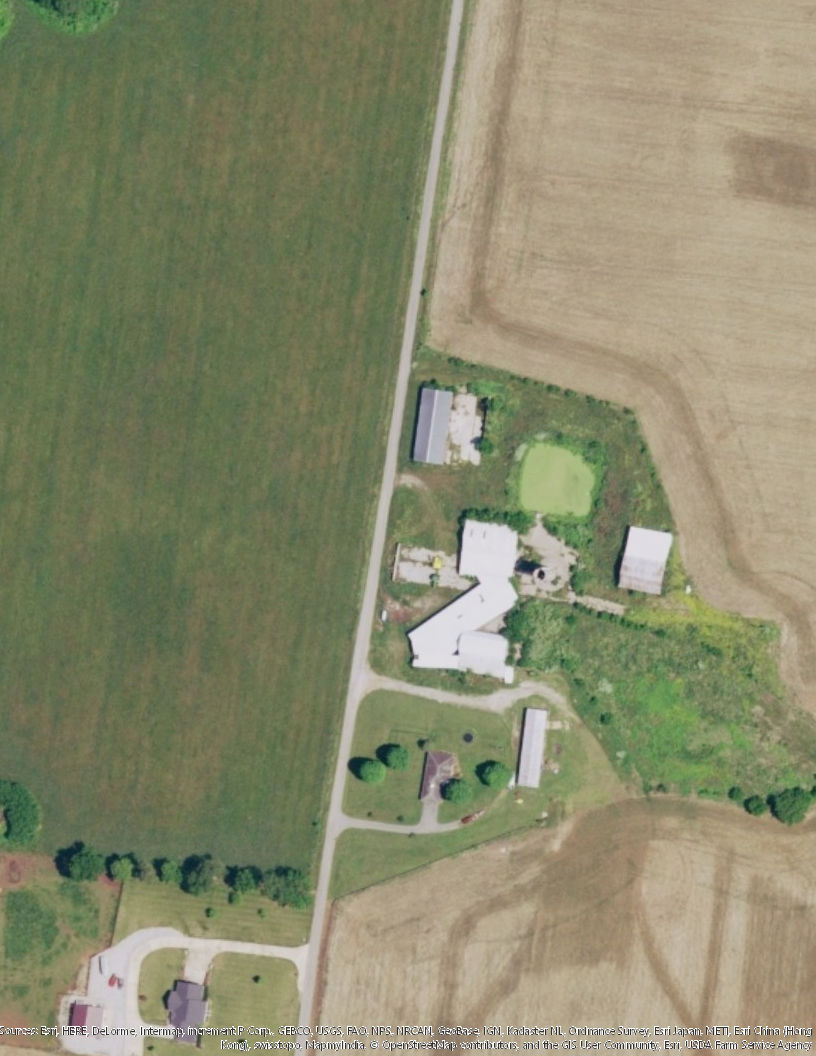cafo: (403, 509, 527, 690), (400, 386, 489, 471), (513, 702, 561, 797)
